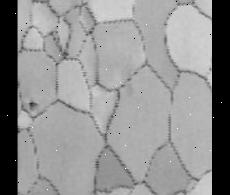good_void: (28, 99, 39, 109)
